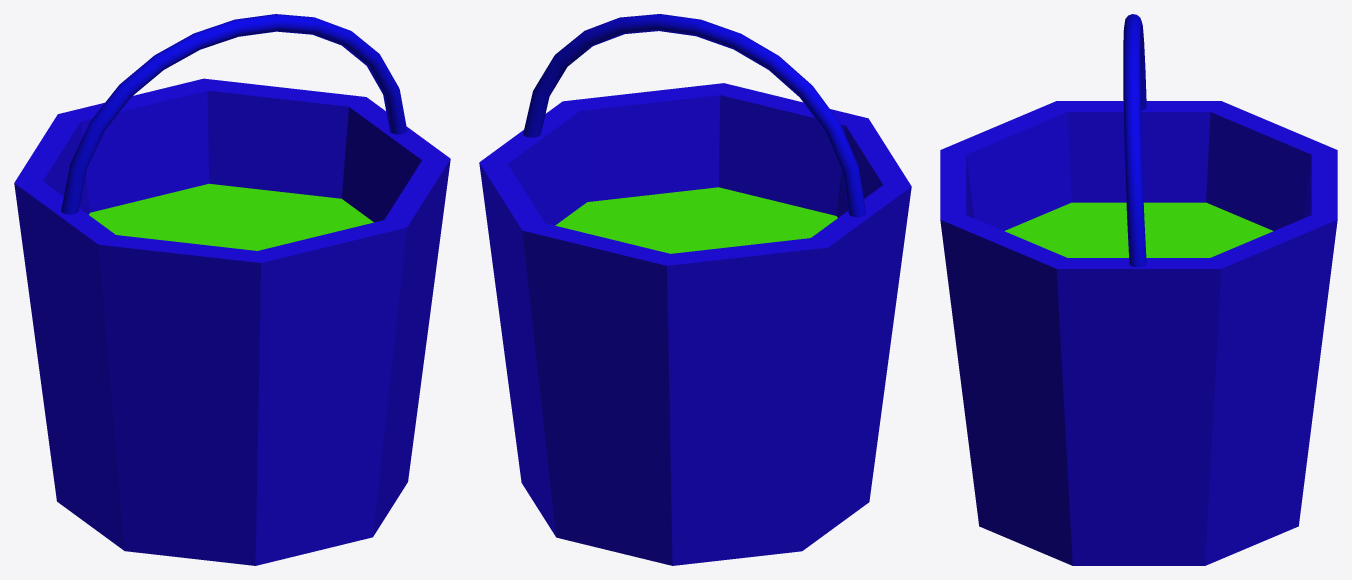
Rendered from Bucket_Water.fbx.
3 renders of one model, left to right at view 1: azimuth 30°, elevation 25°; view 2: azimuth 150°, elevation 25°; view 3: azimuth 270°, elevation 25°, orthographic. The views are drawn at different scales.
Parts seen in each view (by area): view 1: Cylinder, Cylinder.001, BezierCurve; view 2: Cylinder, Cylinder.001, BezierCurve; view 3: Cylinder, Cylinder.001, BezierCurve.
Boxes of the visible parts, box(x1,y1,x2,y2) form: Cylinder: box(14, 78, 450, 565); Cylinder.001: box(89, 183, 373, 250); BezierCurve: box(61, 14, 407, 214); Cylinder: box(479, 83, 911, 565); Cylinder.001: box(555, 187, 837, 253); BezierCurve: box(523, 14, 866, 217); Cylinder: box(940, 101, 1337, 565); Cylinder.001: box(1004, 202, 1273, 257); BezierCurve: box(1123, 14, 1146, 267).
Bounding box in the file's own units: 230 × 295 × 230.
